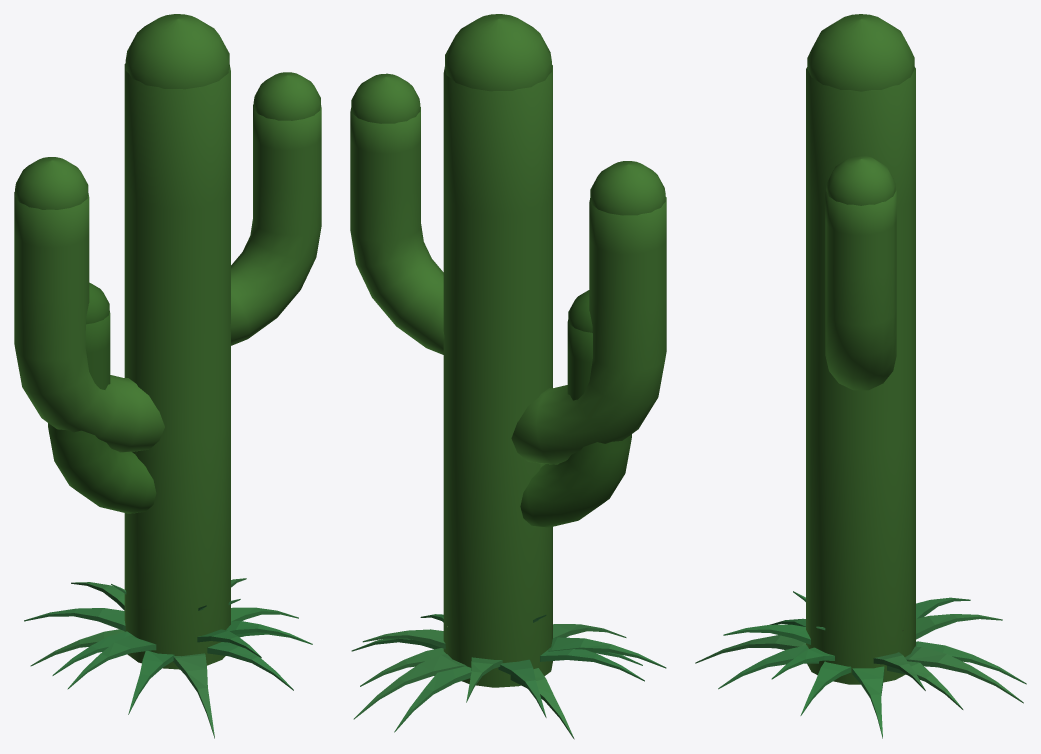
File: BusDesiertoNatural.gltf
3 views of the same model, side by side, from view 1: azimuth 30°, elevation 25°; view 2: azimuth 150°, elevation 25°; view 3: azimuth 270°, elevation 25° (orthographic). The views are drawn at different scales.
Parts seen in each view (by area): view 1: CactusA, Agave, CactusB; view 2: CactusA, Agave, CactusB; view 3: CactusA, Agave.
Part boxes in pixels (x1,y1,x2,y2): CactusA: [14, 14, 321, 669]; Agave: [24, 578, 312, 738]; CactusB: [48, 282, 156, 513]; CactusA: [350, 14, 666, 687]; Agave: [351, 614, 666, 739]; CactusB: [520, 290, 631, 527]; CactusA: [806, 14, 915, 684]; Agave: [695, 591, 1026, 738].
Size of the model in its own units: 5.42 by 11.35 by 5.11.
